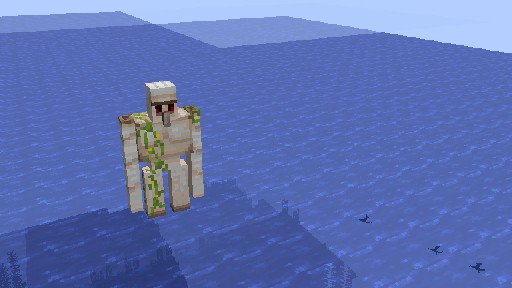iron_golem: (117, 79, 203, 218)
